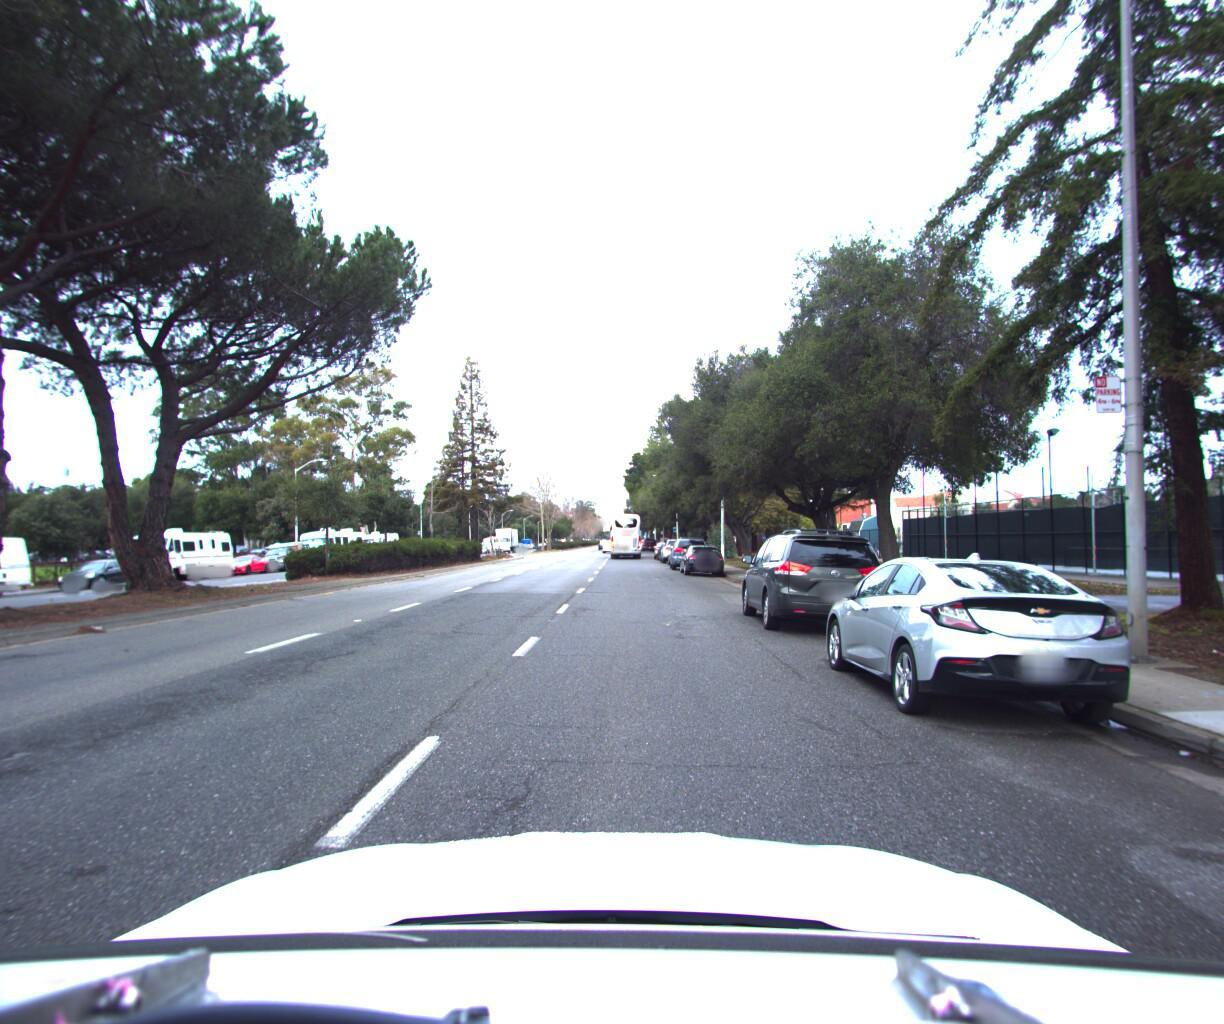bus: (607, 507, 646, 555)
car: (811, 544, 1168, 752), (735, 519, 902, 641), (49, 554, 150, 594), (254, 537, 322, 571), (677, 538, 728, 573), (667, 530, 710, 567), (219, 550, 276, 576), (657, 533, 692, 560)
other_vehicle: (116, 527, 243, 587), (295, 521, 372, 568), (351, 525, 406, 562)
